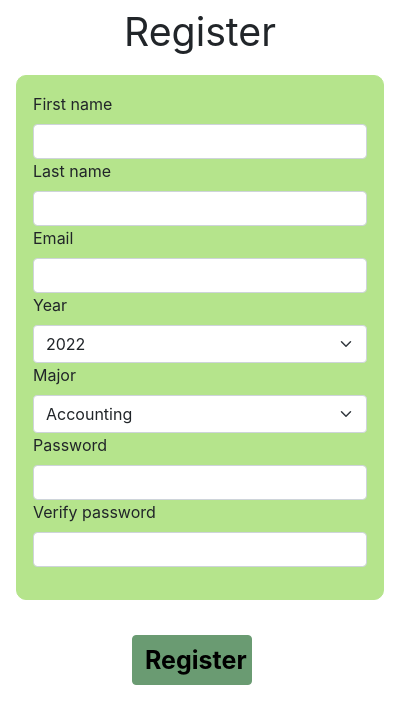
Test: Registration Alerts › uppercase password alert
In the field with test id "firstname-input": (200, 142) [33,124,367,159], type "Jake"
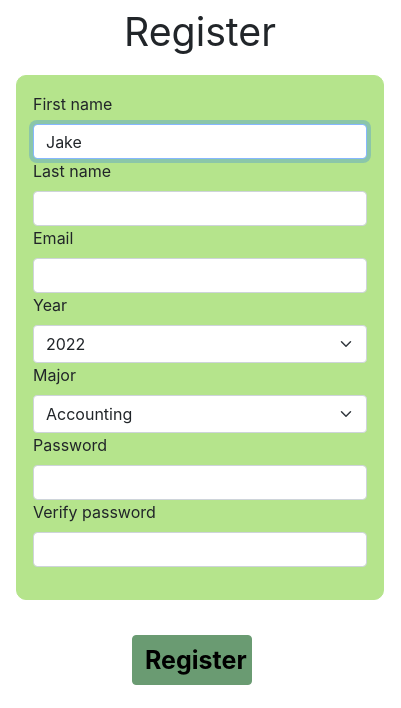
In the field with test id "lastname-input": (200, 209) [33,191,367,226], type "Doh"
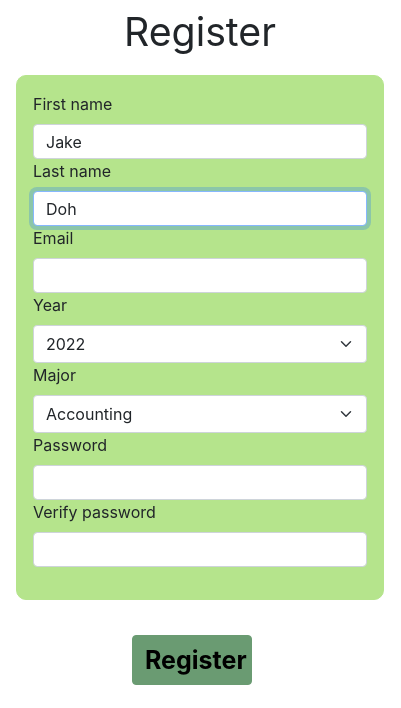
In the field with test id "email-input": (200, 276) [33,258,367,293], type "nuts@gmail.com"
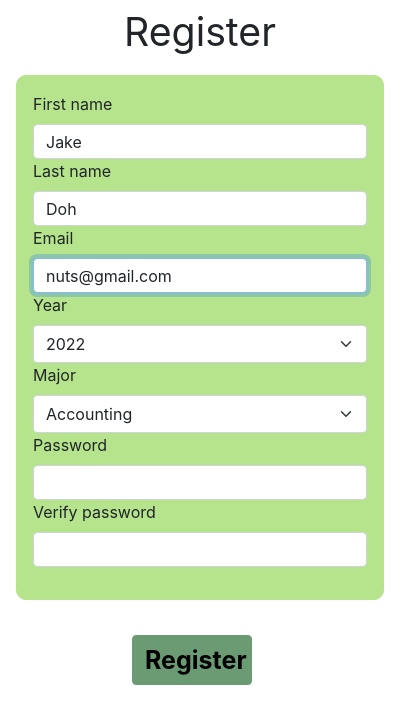
In the password field with test id "password-input": (200, 483) [33,465,367,500], type "abcde"
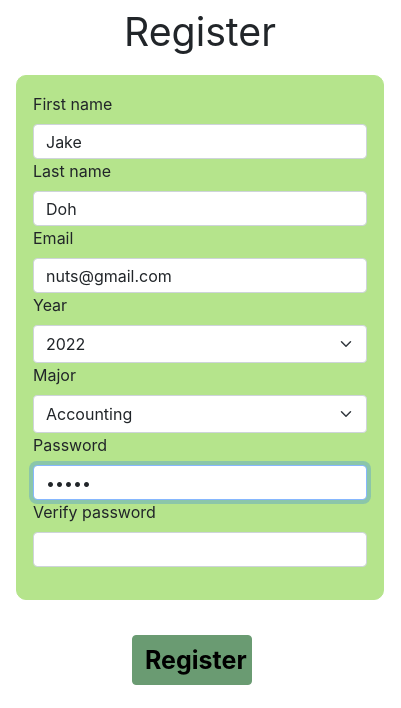
In the password field with test id "verpassword-input": (200, 550) [33,532,367,567], type "abcde"
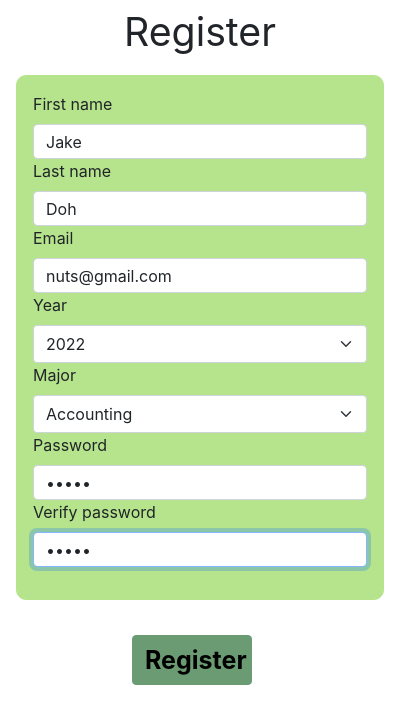
Click the button "Register": (192, 660) [132,635,252,685]
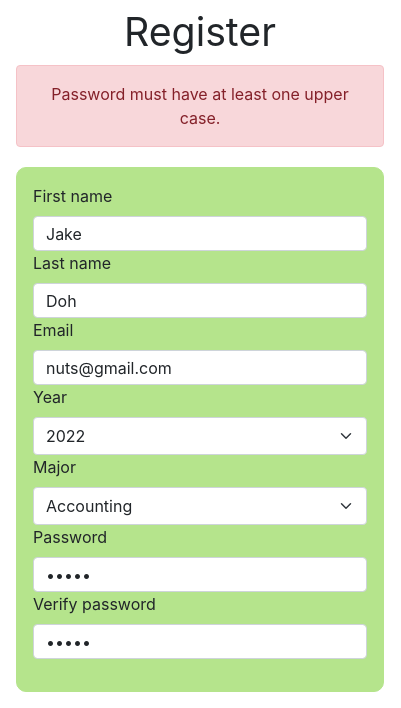
Expected: the text "Password must have at least one upper case." is shown, [16,65,384,147]
